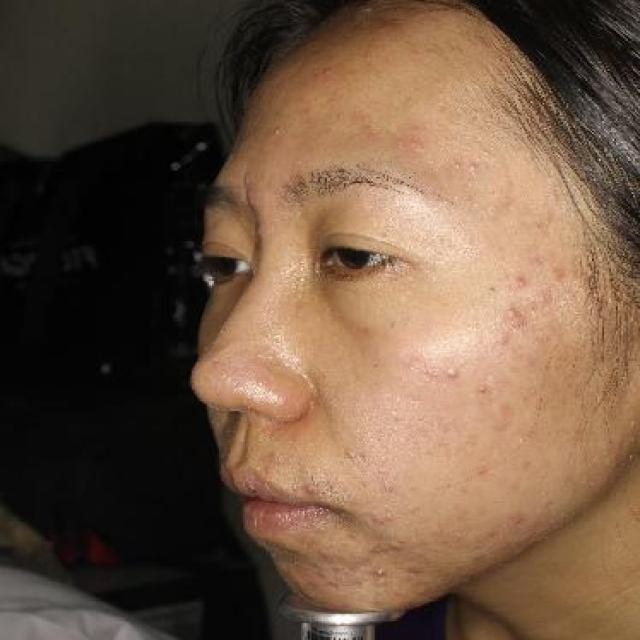Acne: (436, 360, 469, 389)
Whiteheads: (315, 59, 344, 83), (460, 158, 486, 178), (368, 565, 393, 583), (264, 122, 284, 142)
